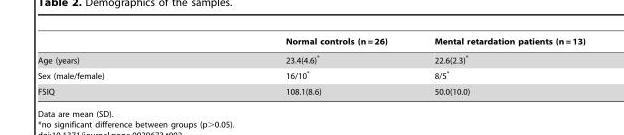table: (37, 36, 584, 95)
table column: (194, 36, 410, 95), (410, 36, 584, 95), (37, 36, 194, 95)
table column header: (37, 36, 584, 49)
table row: (37, 49, 584, 67), (37, 67, 584, 83), (37, 36, 584, 49), (37, 83, 584, 95)
